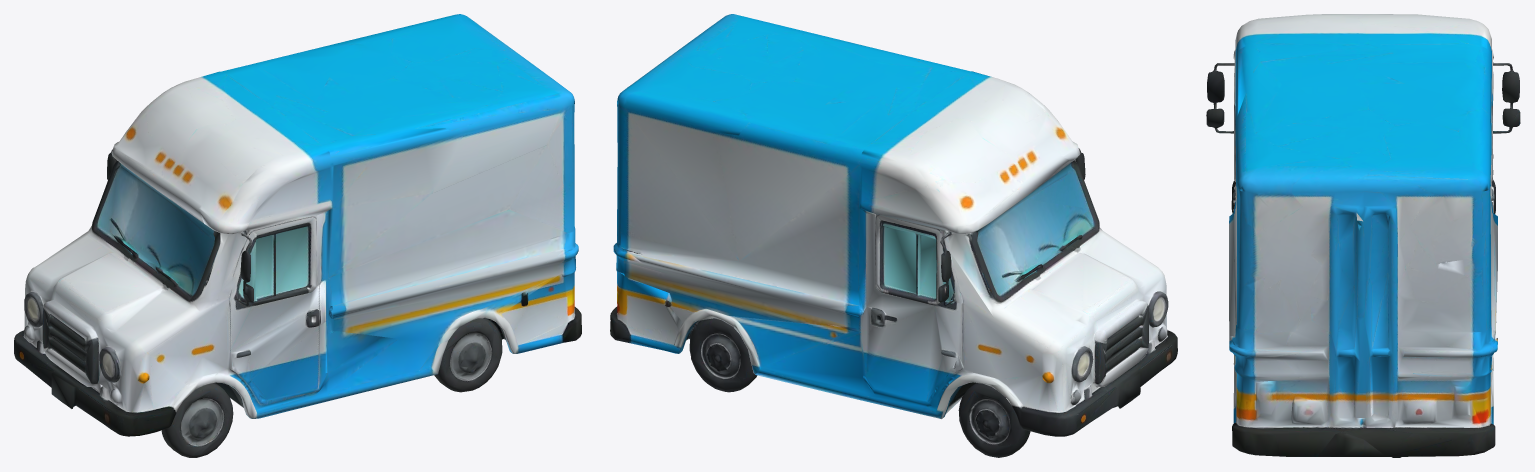
The model's file is g_truck2.glb.
3 views of the same model, side by side, from view 1: azimuth 30°, elevation 25°; view 2: azimuth 150°, elevation 25°; view 3: azimuth 270°, elevation 25° (orthographic). The views are drawn at different scales.
Size of the model in its own units: 1.91 by 1.09 by 1.
Materials: 1 (1 with a texture image).
